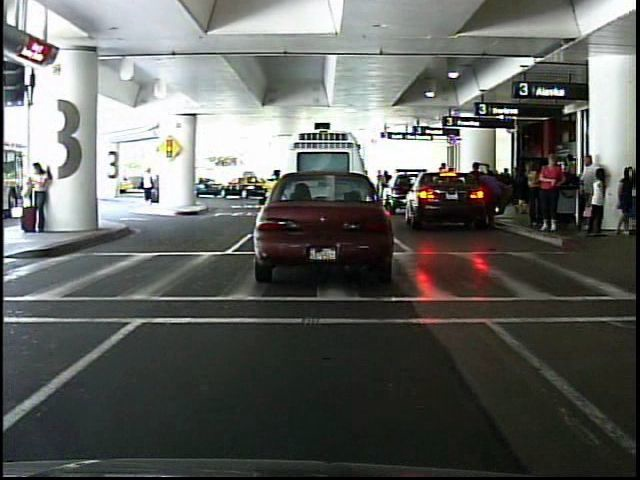person: (539, 150, 565, 236), (28, 160, 54, 234), (136, 163, 164, 208)
